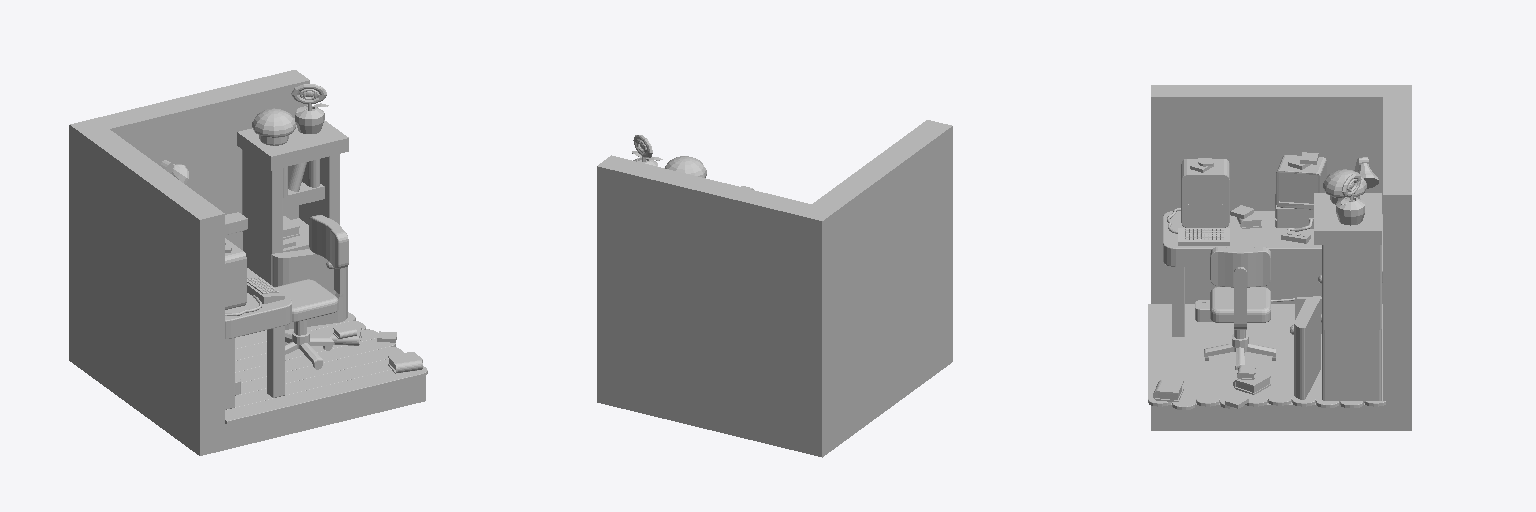
File: GameRoomScene.obj
The picture shows the model from 3 angles: view 1: azimuth 30°, elevation 25°; view 2: azimuth 150°, elevation 25°; view 3: azimuth 270°, elevation 25°; orthographic projection.
Visible parts, largest first — view 1: RoomOutline, BookShelf, woodenPlanks, Chair pCube11, ComputerDesk pCube1, Chair pCube13, Computer1 ComputerSetup, ComputerDesk pCube2, pSphere1, Chair pCylinder2, ComputerDesk pCube3, Plant (+2 smaller); view 2: RoomOutline, pSphere1; view 3: RoomOutline, BookShelf, woodenPlanks, ComputerDesk pCube1, Computer1 ComputerSetup, Chair pCube11, Chair pCube13, TVMonitor1 GamingSetup, Chair pCylinder2, ComputerDesk pCube2, pSphere1, GamingSetup GamingConsole (+3 smaller).
Boxes of the visible parts, box(x1,y1,x2,y2) form: RoomOutline: box(69, 70, 425, 455); BookShelf: box(237, 118, 348, 329); woodenPlanks: box(225, 312, 427, 424); Chair pCube11: box(274, 268, 343, 321); ComputerDesk pCube1: box(225, 268, 291, 338); Chair pCube13: box(309, 215, 348, 268); Computer1 ComputerSetup: box(225, 238, 246, 309); ComputerDesk pCube2: box(267, 326, 284, 397); pSphere1: box(252, 108, 295, 145); Chair pCylinder2: box(285, 320, 334, 365); ComputerDesk pCube3: box(225, 338, 234, 409); Plant: box(291, 84, 328, 112); RoomOutline: box(597, 120, 952, 457); pSphere1: box(665, 156, 706, 177); RoomOutline: box(1151, 85, 1411, 430); BookShelf: box(1294, 193, 1381, 401); woodenPlanks: box(1148, 304, 1385, 409); ComputerDesk pCube1: box(1163, 211, 1321, 266); Computer1 ComputerSetup: box(1181, 159, 1229, 227); Chair pCube11: box(1210, 278, 1270, 329); Chair pCube13: box(1210, 247, 1270, 287); TVMonitor1 GamingSetup: box(1276, 155, 1326, 209); Chair pCylinder2: box(1204, 330, 1275, 369); ComputerDesk pCube2: box(1172, 267, 1184, 336); pSphere1: box(1323, 169, 1366, 204); GamingSetup GamingConsole: box(1275, 194, 1313, 228).
Bounding box in the file's own units: 7.17 × 7.04 × 6.8.